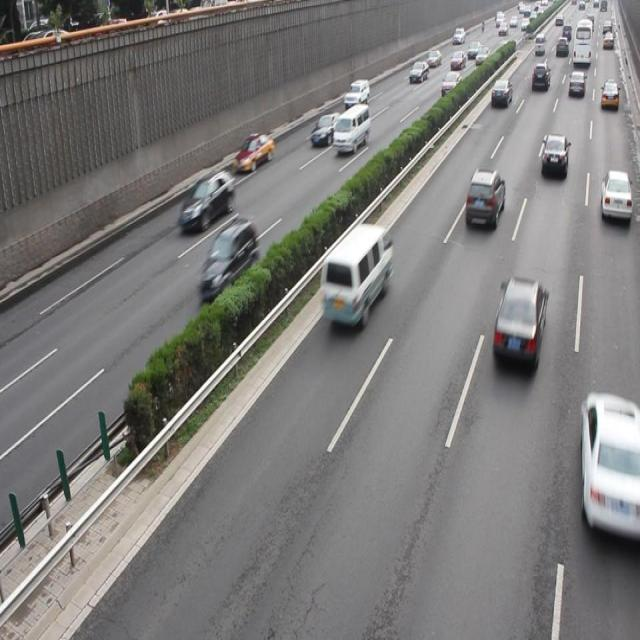car: (578, 389, 640, 543), (491, 274, 545, 367), (199, 217, 257, 303), (178, 170, 235, 232), (464, 167, 504, 228), (232, 133, 274, 173), (599, 169, 630, 222), (540, 132, 566, 177), (310, 112, 340, 146)
truck: (320, 220, 391, 328), (332, 104, 368, 154)
